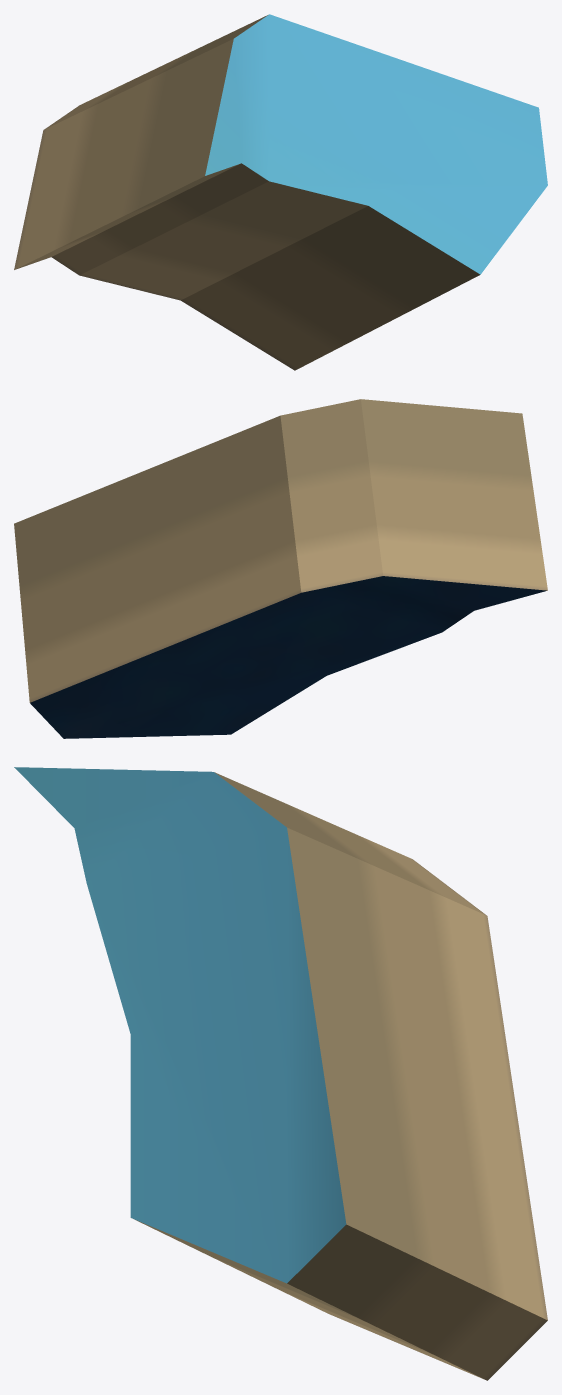
Rendered from 0696_Georgia.glb.
The picture shows the model from 3 angles, top to bottom: view 1: azimuth 30°, elevation 25°; view 2: azimuth 150°, elevation 25°; view 3: azimuth 270°, elevation 25°; orthographic projection. The views are drawn at different scales.
Visible parts, largest first — view 1: part_0; view 2: part_0; view 3: part_0.
Part boxes in pixels (box(x1,y1,x2,y2)): part_0: box(14, 14, 547, 370); part_0: box(14, 399, 547, 738); part_0: box(14, 767, 547, 1380).
Size of the model in its own units: 0.5414 by 0.3495 by 0.3541.
Materials: 1 (1 with a texture image).
